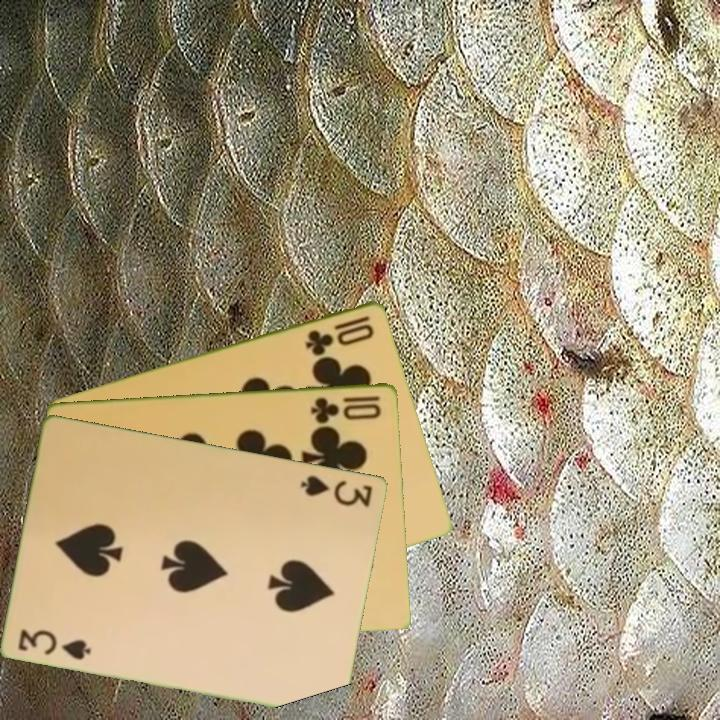10c: (302, 311, 377, 357), (307, 392, 384, 424)
3s: (15, 624, 95, 663), (297, 471, 376, 510)
